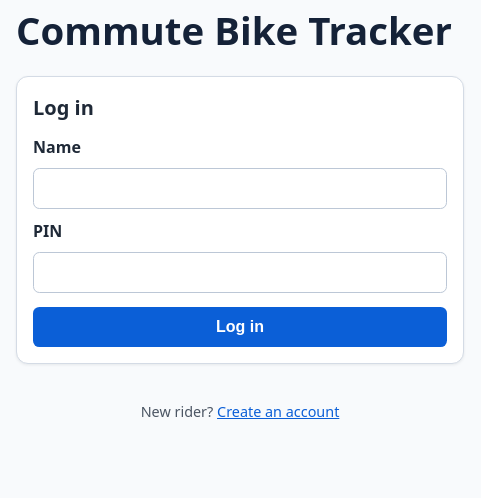
it: LoginPage component › shows throttle message for 429 responses
This screenshot has width=481, height=498.
In the field labelled "Name": x=240, y=189 [33,168,447,209], type "Alice"
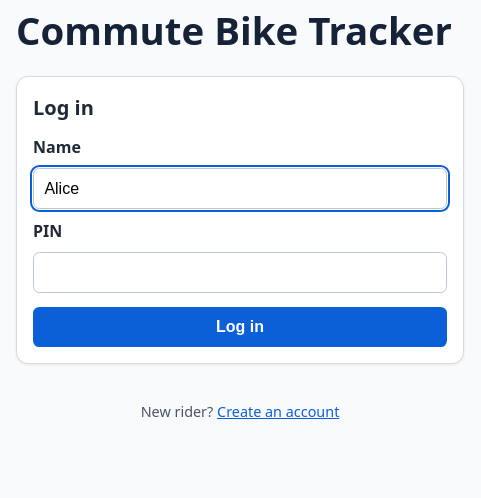
In the password field labelled "PIN": x=240, y=273 [33,252,447,293], type "0000"
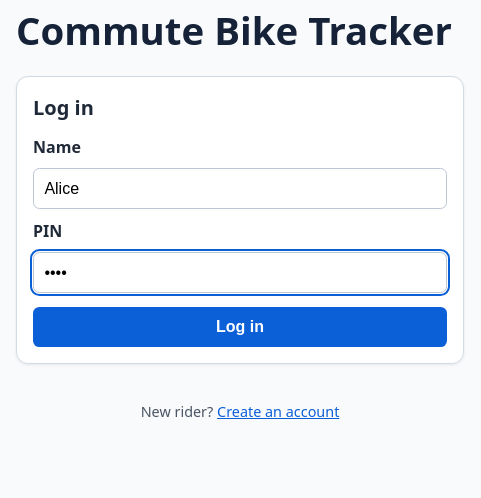
Click the button "Log in": x=240, y=327 [33,306,447,347]
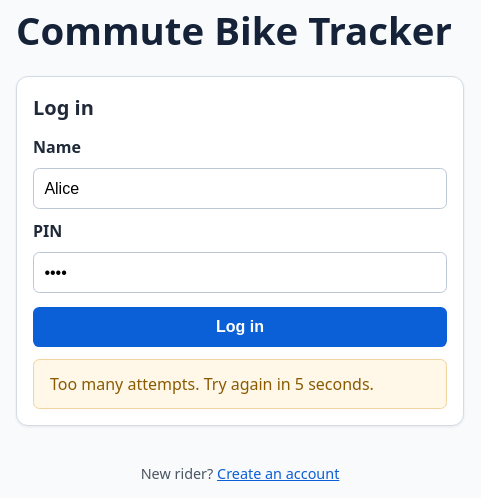
Expected: the text "Too many attempts. Try again in 5 seconds." is shown, [33,359,447,409]
